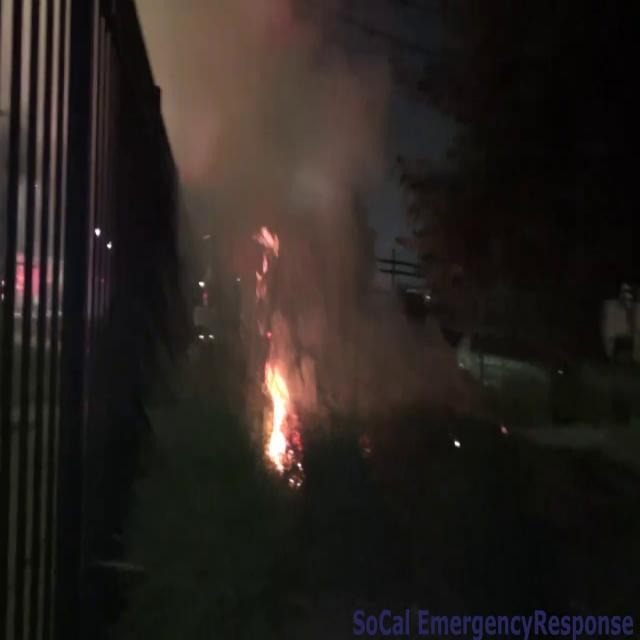Fire: (260, 356, 297, 474)
Smoke: (145, 0, 463, 425)
